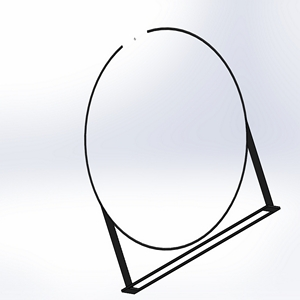circle: (82, 23, 281, 295)
